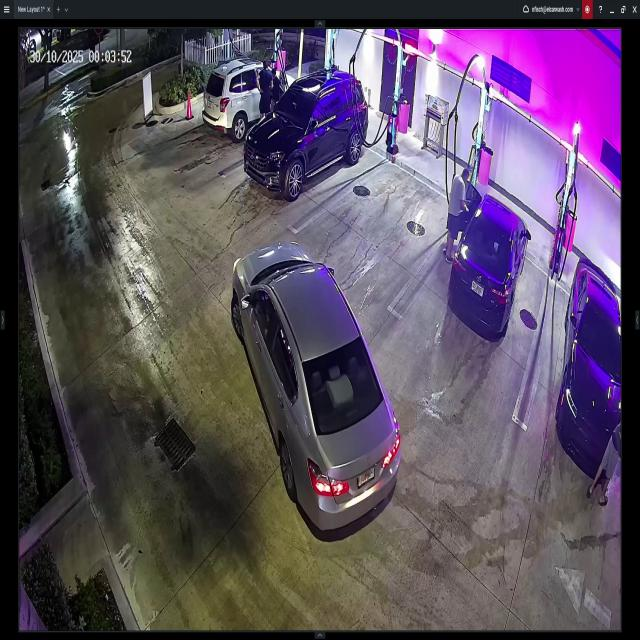Car: (230, 242, 401, 533), (242, 70, 370, 198), (562, 255, 624, 478), (449, 171, 529, 336), (204, 61, 298, 137)
